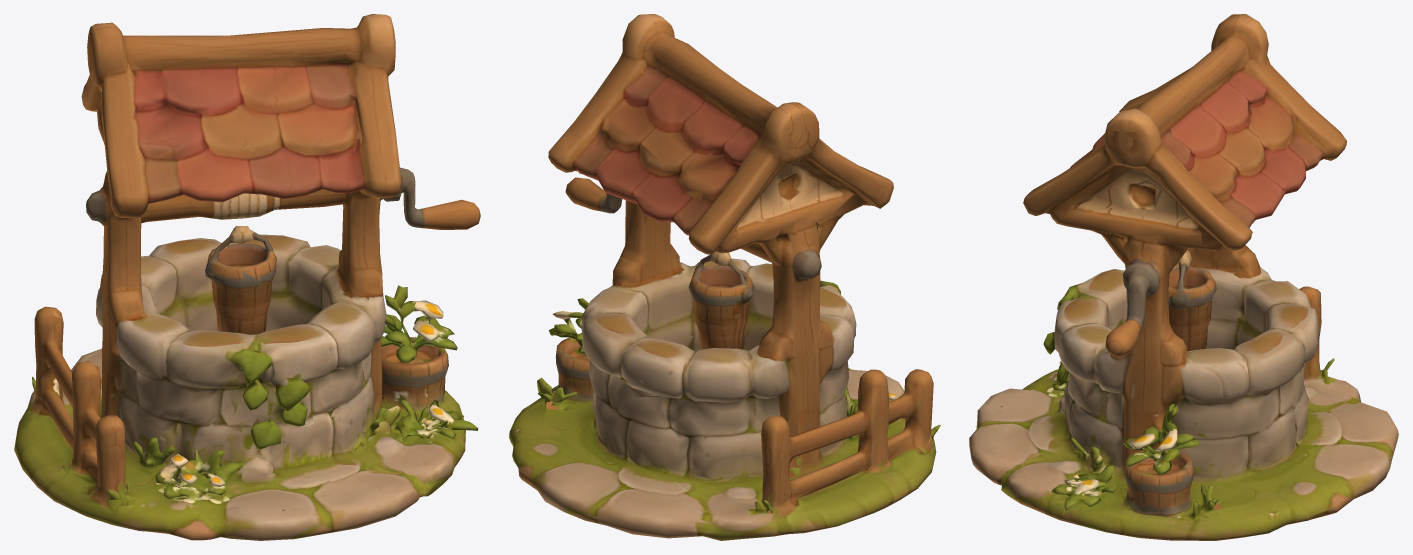
The picture shows the model from 3 angles, left to right: view 1: azimuth 30°, elevation 25°; view 2: azimuth 150°, elevation 25°; view 3: azimuth 270°, elevation 25°; orthographic projection. The views are drawn at different scales.
Parts seen in each view (by area): view 1: stone-well; view 2: stone-well; view 3: stone-well.
Part boxes in pixels (x1,y1,x2,y2): stone-well: (14, 14, 480, 540); stone-well: (509, 14, 940, 540); stone-well: (969, 14, 1398, 540).
Bounding box in the file's own units: 2.17 × 2.2 × 2.19.
1 material, 1 textured.
